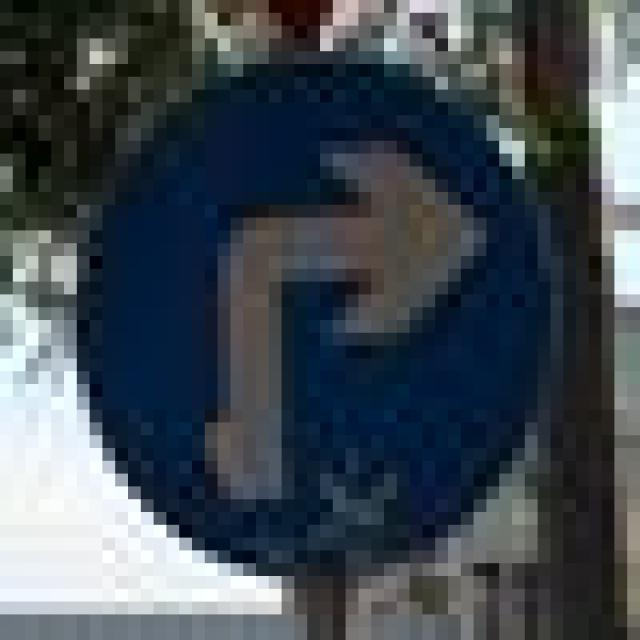railway_crossing: (51, 26, 538, 576)
